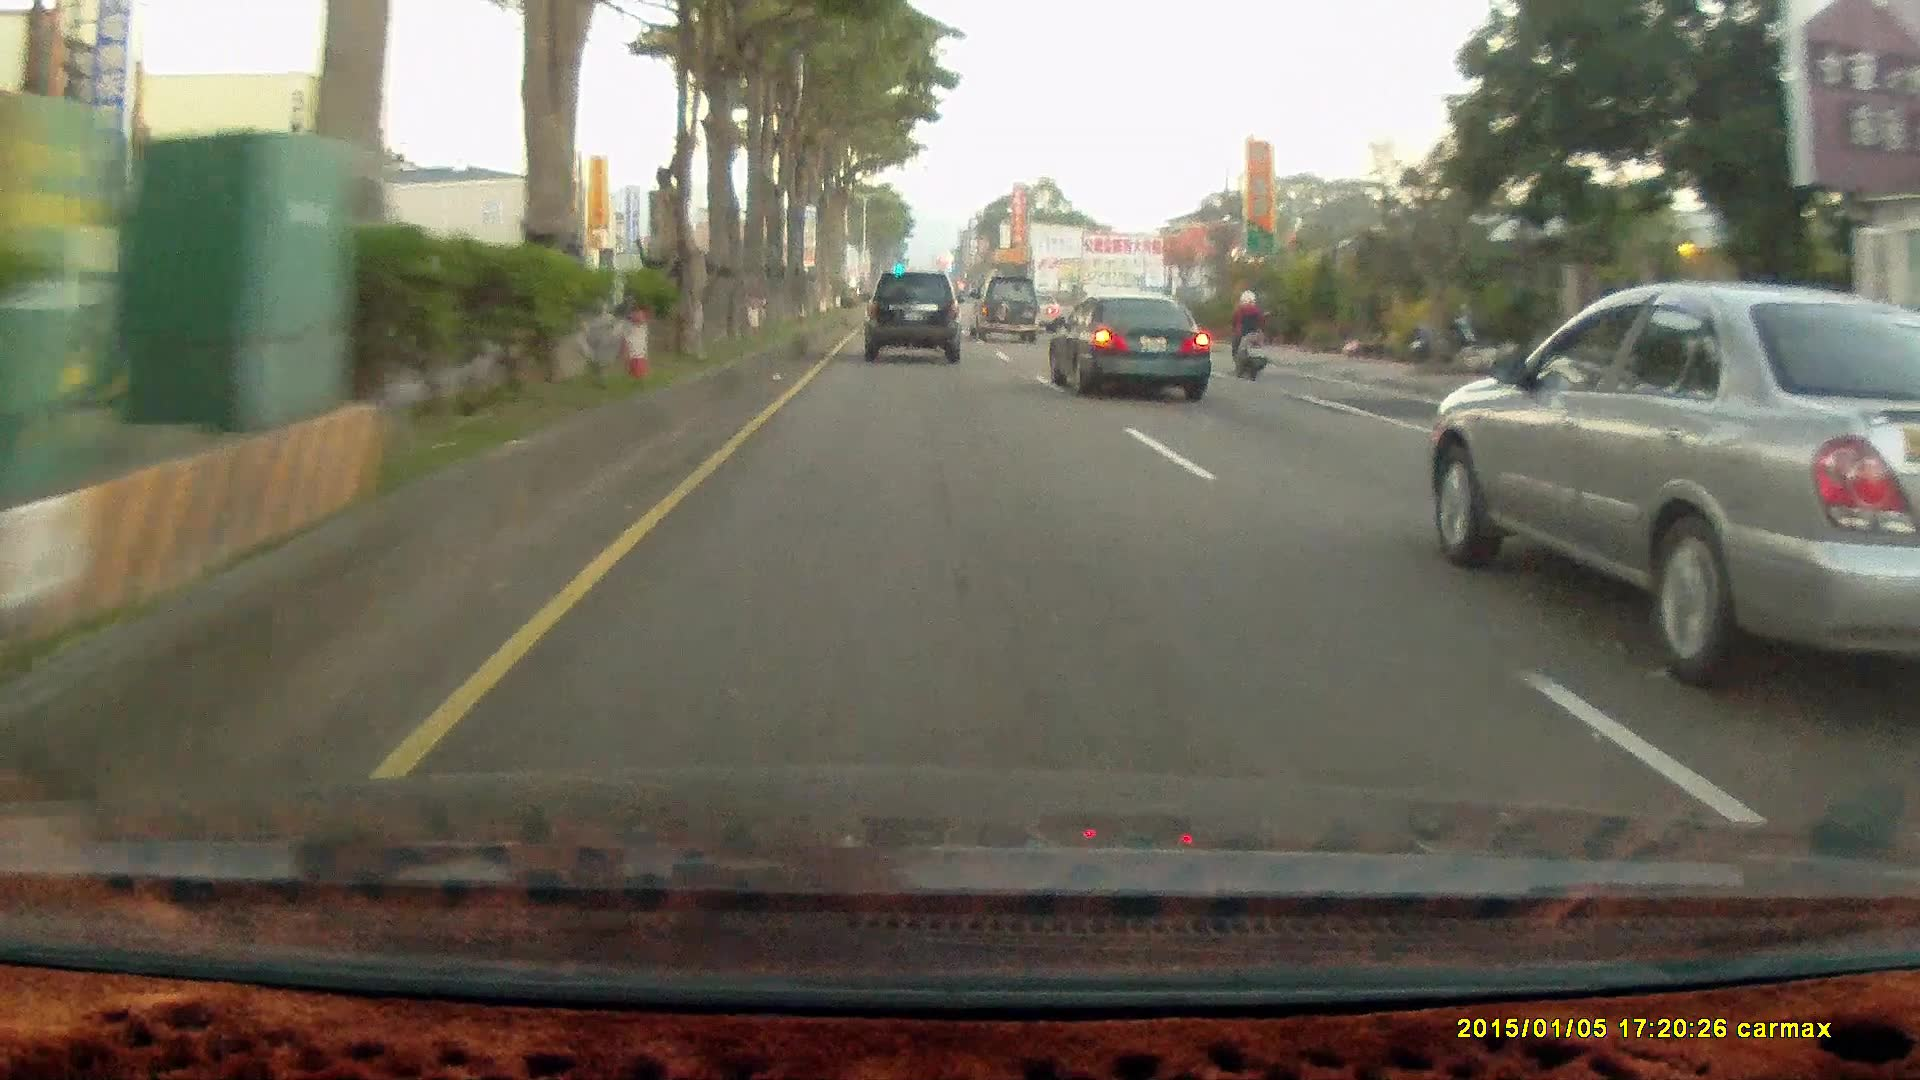rider: (1218, 281, 1278, 386), (1221, 284, 1270, 379)
vehicle: (1428, 295, 1917, 704), (1049, 296, 1217, 408), (1046, 293, 1211, 401), (862, 266, 967, 366), (859, 270, 959, 363), (968, 278, 1044, 346), (967, 274, 1038, 341)
